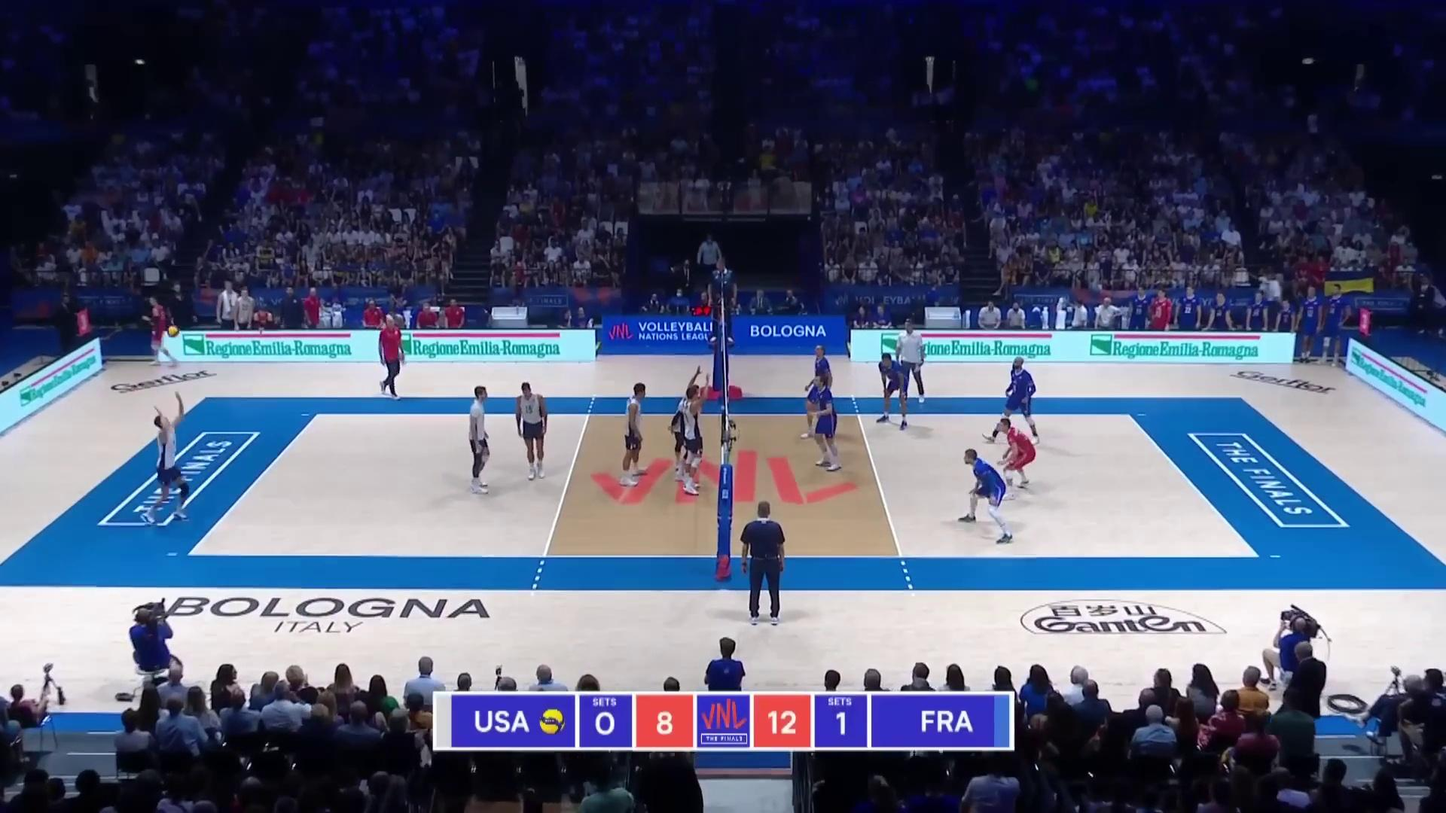player: (145, 404, 190, 522), (959, 447, 1012, 542), (988, 356, 1040, 442), (677, 385, 711, 495), (514, 381, 549, 483), (806, 376, 840, 473), (802, 344, 836, 438), (464, 385, 493, 493), (999, 417, 1036, 501), (878, 348, 913, 430), (672, 379, 700, 479), (622, 384, 648, 485)
refree: (739, 502, 789, 625), (709, 261, 736, 340)
